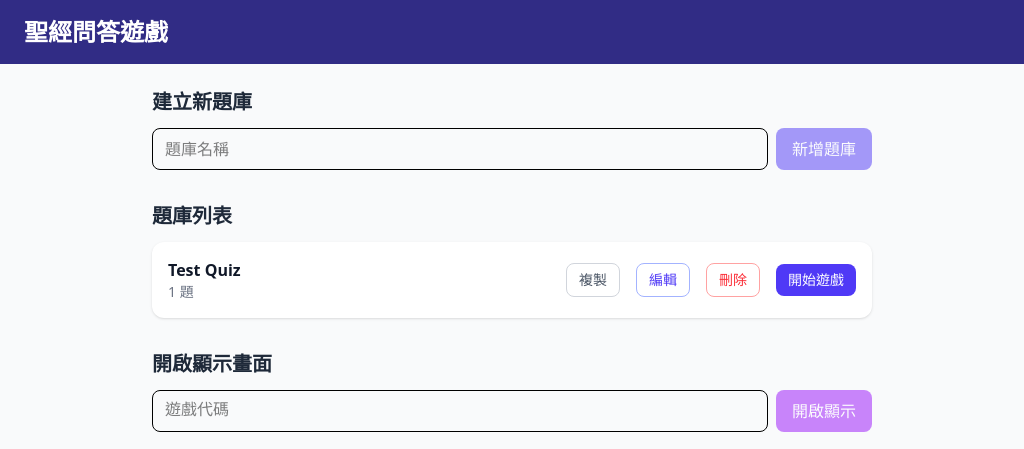
HomePage › clicking 取消 after 刪除 hides confirm
Expected: the heading "Test Quiz" is shown, [168,259,241,281]
Step 1. Click the button with aria-label "刪除題庫" → (733,280), box [706,263,760,297]
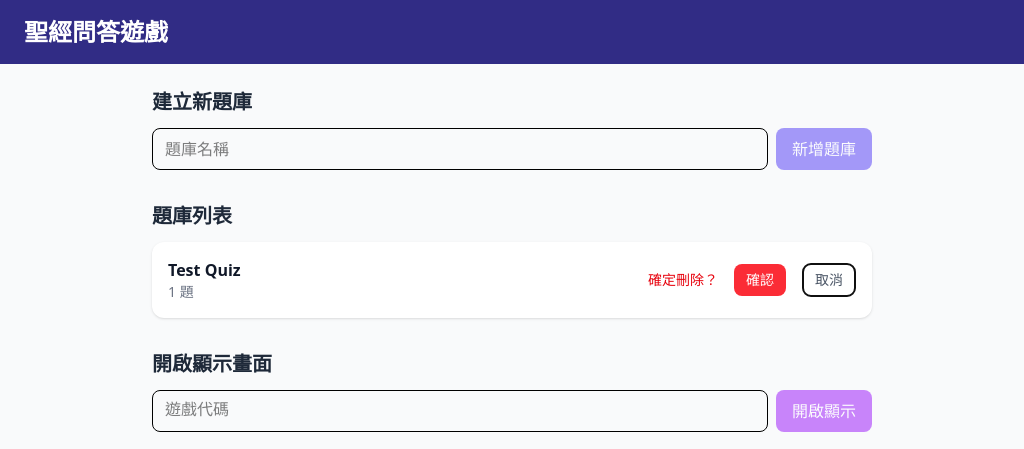
Step 2. Click the button "取消" → (829,280), box [802,263,856,297]
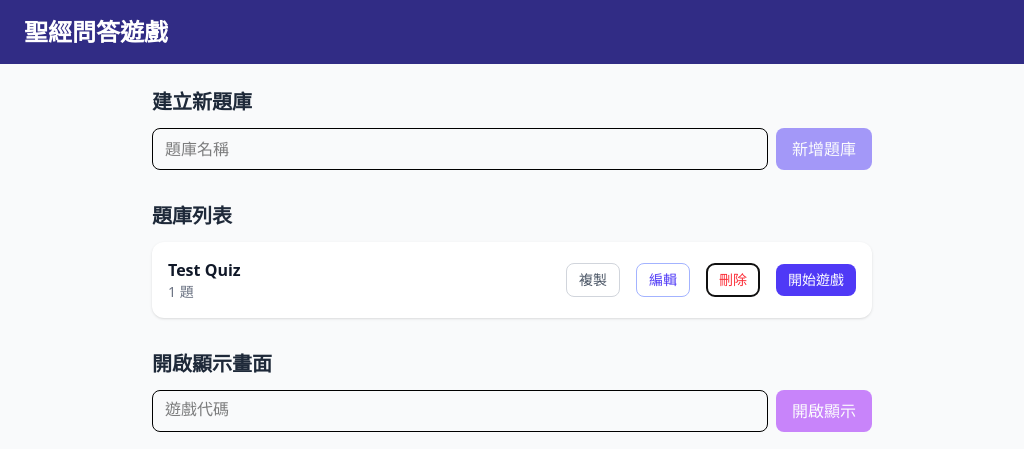
Expected: the text "確定刪除？" is gone
Expected: the button with aria-label "刪除題庫" is shown, [706,263,760,297]
